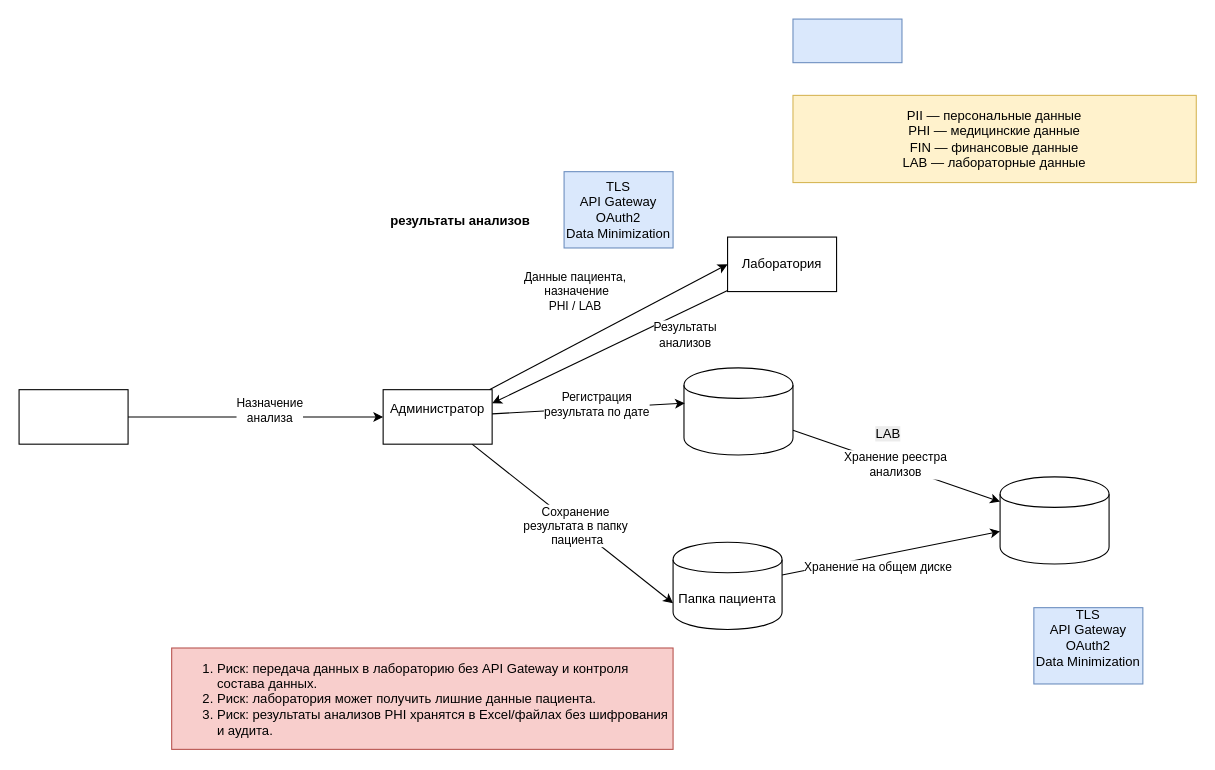
Some shapes in this 1215 by 770 pixel diagram are drawn without their labels. Here are the shapes that lost their labels. From the top down, the centre of each, then its label:
point 847,40: To-Be меры
point 73,416: Врач
point 738,411: RegistryByDate Excel
point 1054,520: File Server
